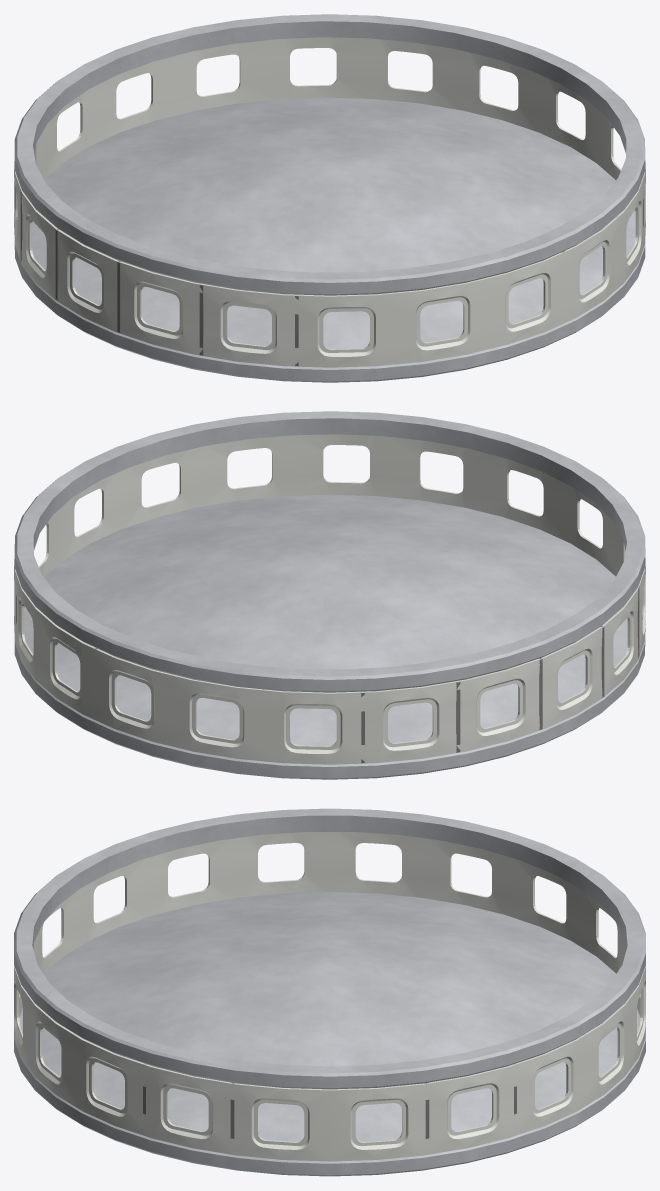
The model's file is ax_struct_07_hot_staging_ring_xxl.glb.
3 views of the same model, one above another, from view 1: azimuth 30°, elevation 25°; view 2: azimuth 150°, elevation 25°; view 3: azimuth 270°, elevation 25° (orthographic).
Parts seen in each view (by area): view 1: blast_deflector, vented_barrel, interface_rings, vent_ribs; view 2: blast_deflector, vented_barrel, interface_rings, vent_ribs; view 3: blast_deflector, vented_barrel, interface_rings, vent_ribs.
Boxes of the visible parts, x1=… form: blast_deflector: x1=32, y1=97, x2=635, y2=348; vented_barrel: x1=14, y1=37, x2=645, y2=367; interface_rings: x1=14, y1=14, x2=645, y2=382; vent_ribs: x1=20, y1=191, x2=643, y2=366; blast_deflector: x1=24, y1=494, x2=627, y2=745; vented_barrel: x1=14, y1=434, x2=645, y2=764; interface_rings: x1=14, y1=411, x2=645, y2=779; vent_ribs: x1=16, y1=587, x2=639, y2=763; blast_deflector: x1=22, y1=892, x2=637, y2=1141; vented_barrel: x1=14, y1=832, x2=645, y2=1161; interface_rings: x1=14, y1=808, x2=645, y2=1176; vent_ribs: x1=74, y1=1034, x2=585, y2=1138.
Bounding box in the file's own units: 7.5 × 1.35 × 7.5.
Materials: 3 (2 with a texture image).
